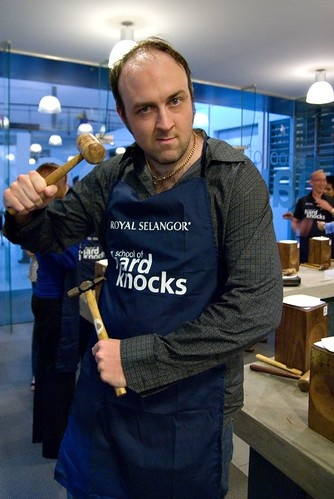hammer: (66, 278, 132, 399), (16, 134, 110, 209)
